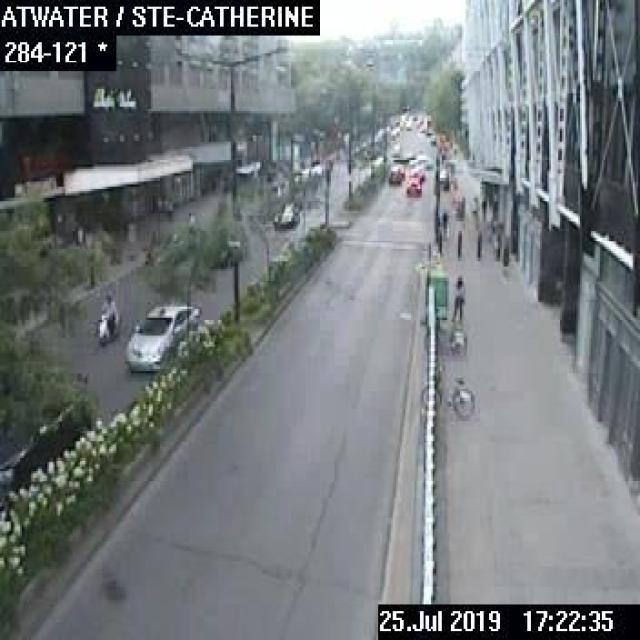pedestrian: (449, 274, 464, 322), (454, 191, 464, 225), (469, 191, 478, 227), (438, 209, 447, 240)
vehicle: (0, 393, 91, 491), (124, 300, 200, 373), (95, 296, 118, 344), (270, 201, 298, 227), (405, 175, 420, 193), (388, 165, 400, 182)
